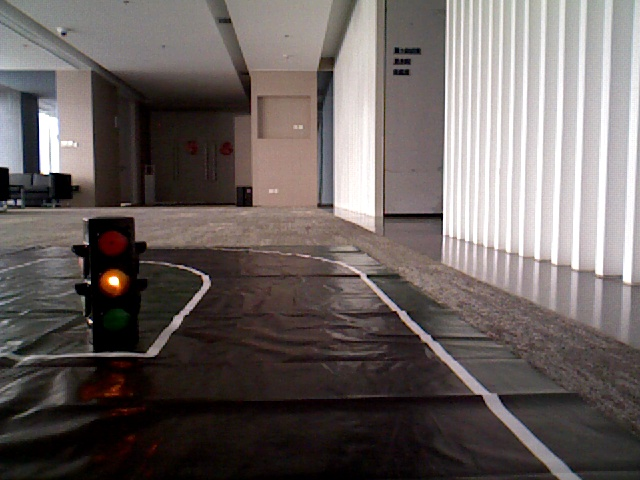yellow: (92, 220, 137, 328)
